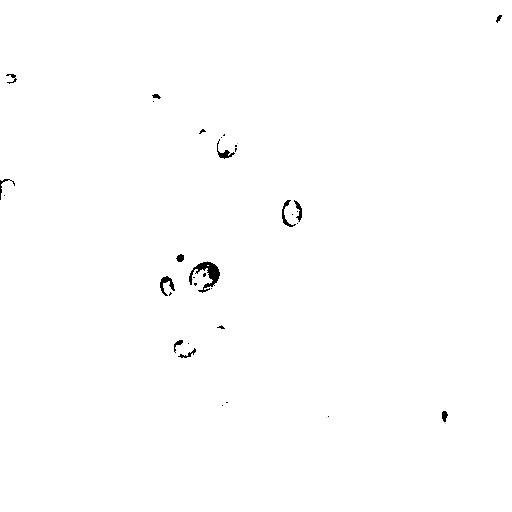micro-algae: (218, 403, 255, 443), (187, 258, 221, 293), (484, 6, 512, 41), (167, 240, 194, 275), (280, 196, 303, 229), (273, 173, 298, 203), (436, 403, 460, 434), (215, 131, 241, 159), (171, 337, 199, 362), (159, 275, 175, 299), (3, 178, 17, 197), (1, 71, 17, 85), (195, 125, 208, 139)
